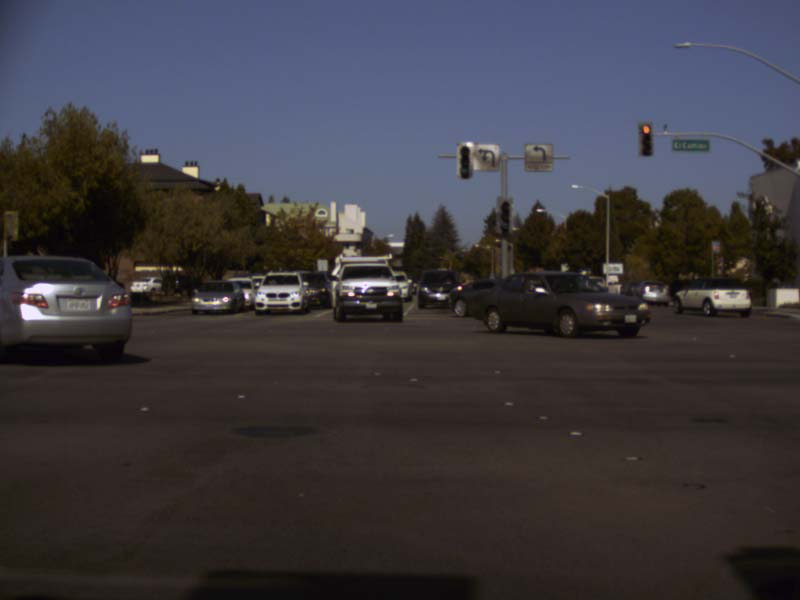Green: (499, 200, 510, 230), (459, 147, 469, 177)
Red: (638, 122, 653, 155)
